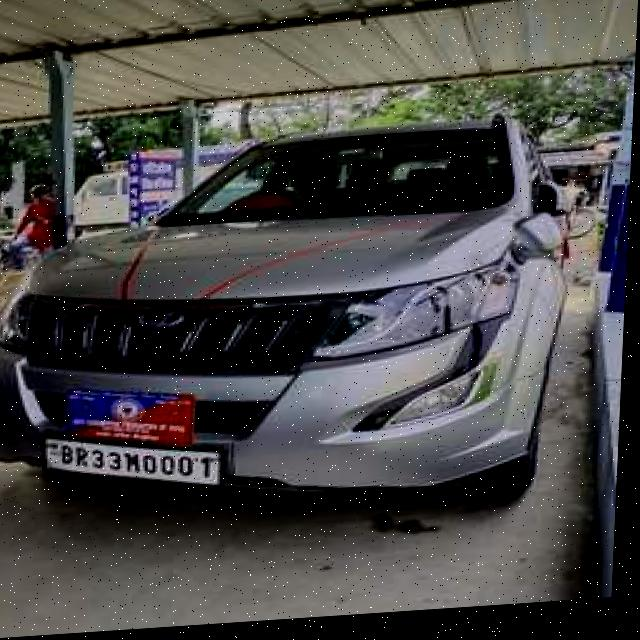plate: (44, 427, 234, 508)
